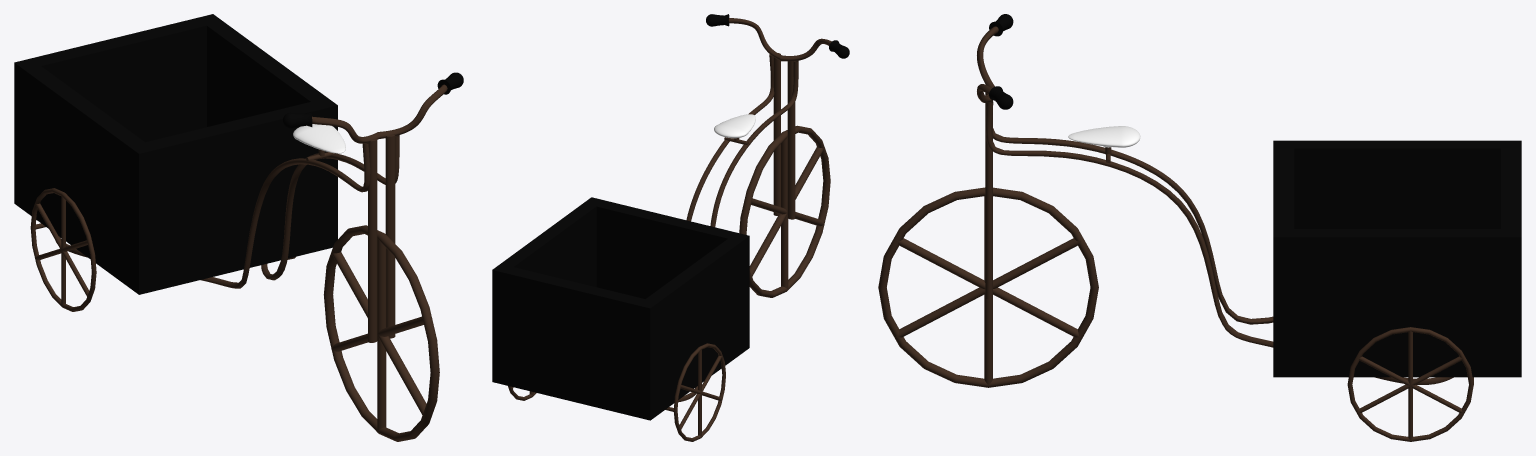
File: baica.obj
3 views of the same model, side by side, from view 1: azimuth 30°, elevation 25°; view 2: azimuth 150°, elevation 25°; view 3: azimuth 270°, elevation 25° (orthographic). The views are drawn at different scales.
Parts seen in each view (by area): view 1: pCube1, pCylinder15, polySurface1, pCylinder16; view 2: pCube1, pCylinder15, polySurface1, pCylinder16; view 3: pCube1, pCylinder15, polySurface1, pCylinder16.
Part boxes in pixels (x1,y1,x2,y2): pCube1: [14, 14, 337, 294]; pCylinder15: [30, 84, 447, 441]; polySurface1: [293, 124, 345, 153]; pCylinder16: [283, 72, 463, 128]; pCube1: [492, 197, 749, 420]; pCylinder15: [508, 18, 831, 441]; polySurface1: [714, 114, 755, 138]; pCylinder16: [706, 14, 849, 58]; pCube1: [1273, 140, 1521, 377]; pCylinder15: [878, 26, 1473, 441]; polySurface1: [1068, 126, 1140, 147]; pCylinder16: [989, 14, 1013, 109].
Bounding box in the file's own units: 4.08 × 6.11 × 10.59.
